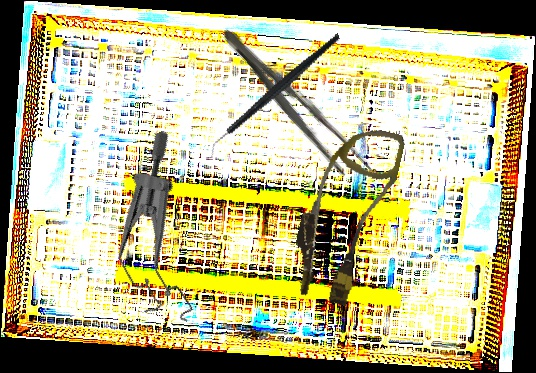Cannula: (284, 117, 407, 311)
Chopper: (186, 33, 364, 159)
Dressing Forceps: (212, 19, 377, 189)
Speculum: (70, 128, 252, 339)
